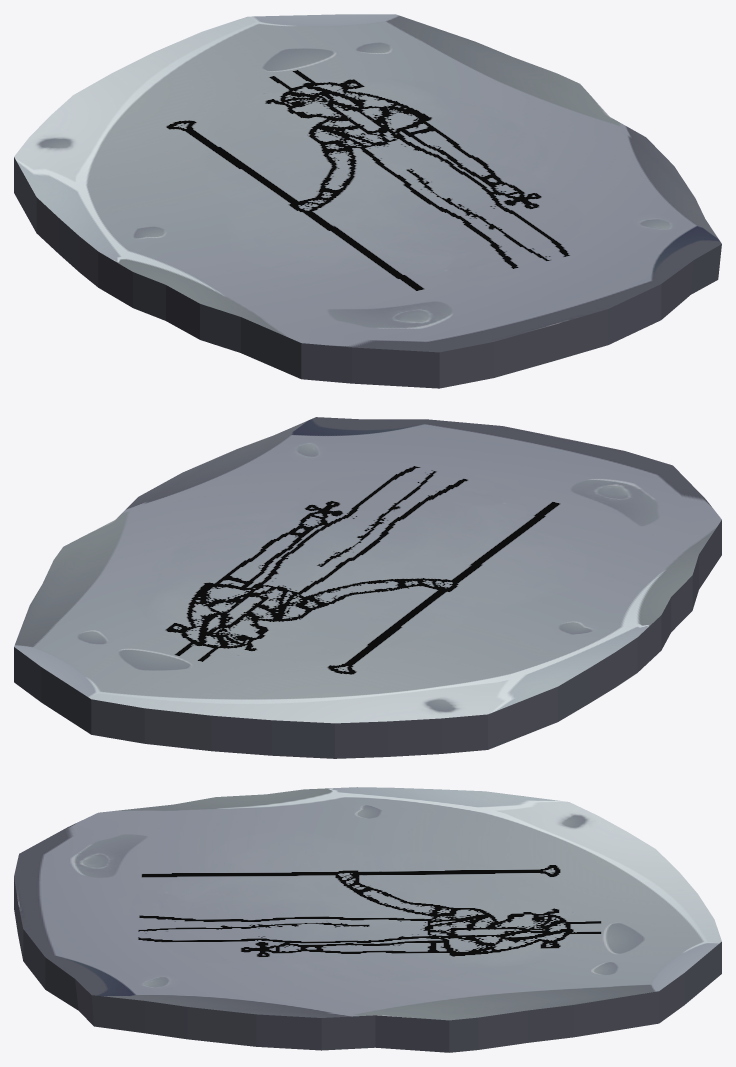
The model's file is runeNephthys.glb.
3 renders of one model, top to bottom at view 1: azimuth 30°, elevation 25°; view 2: azimuth 150°, elevation 25°; view 3: azimuth 270°, elevation 25°, orthographic. The views are drawn at different scales.
Visible parts, largest first — view 1: rune; view 2: rune; view 3: rune.
Boxes of the visible parts, x1,y1,x2,y2 form: rune: [14, 14, 721, 388]; rune: [14, 417, 721, 758]; rune: [14, 787, 721, 1052].
Bounding box in the file's own units: 0.7844 × 0.0509 × 1.01.
1 material, 1 textured.
